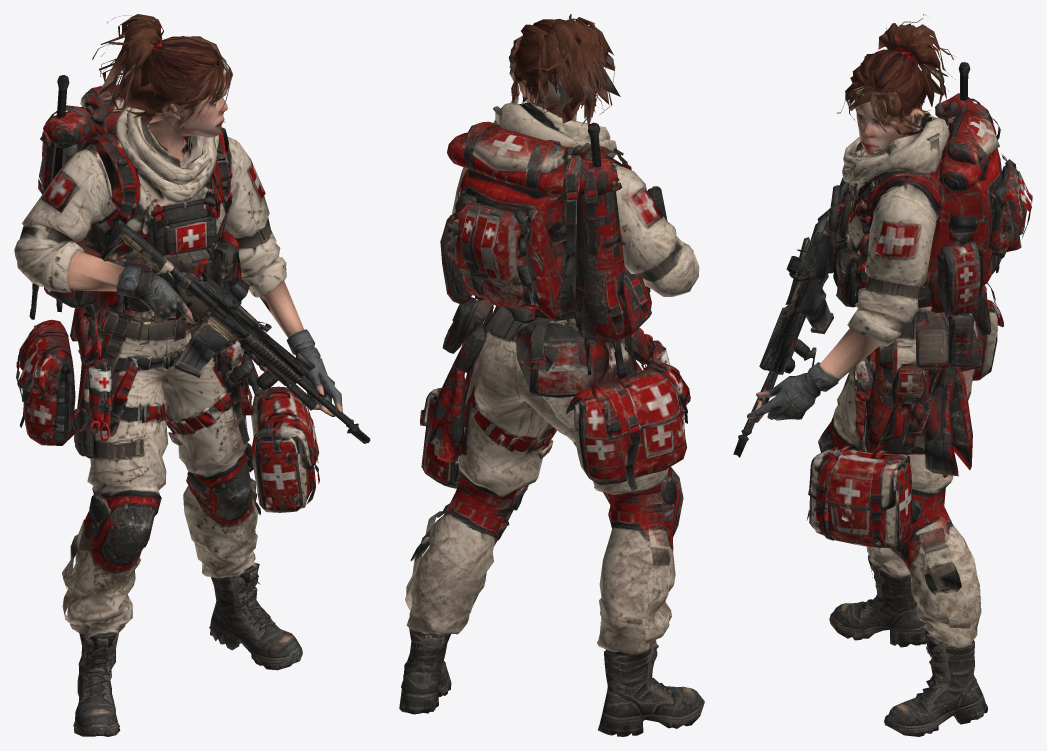
File: field-medic-meshy-v1.glb
The picture shows the model from 3 angles, left to right: view 1: azimuth 30°, elevation 25°; view 2: azimuth 150°, elevation 25°; view 3: azimuth 270°, elevation 25°; orthographic projection. The views are drawn at different scales.
Size of the model in its own units: 0.4062 by 0.9512 by 0.3989.
1 material, 1 textured.
